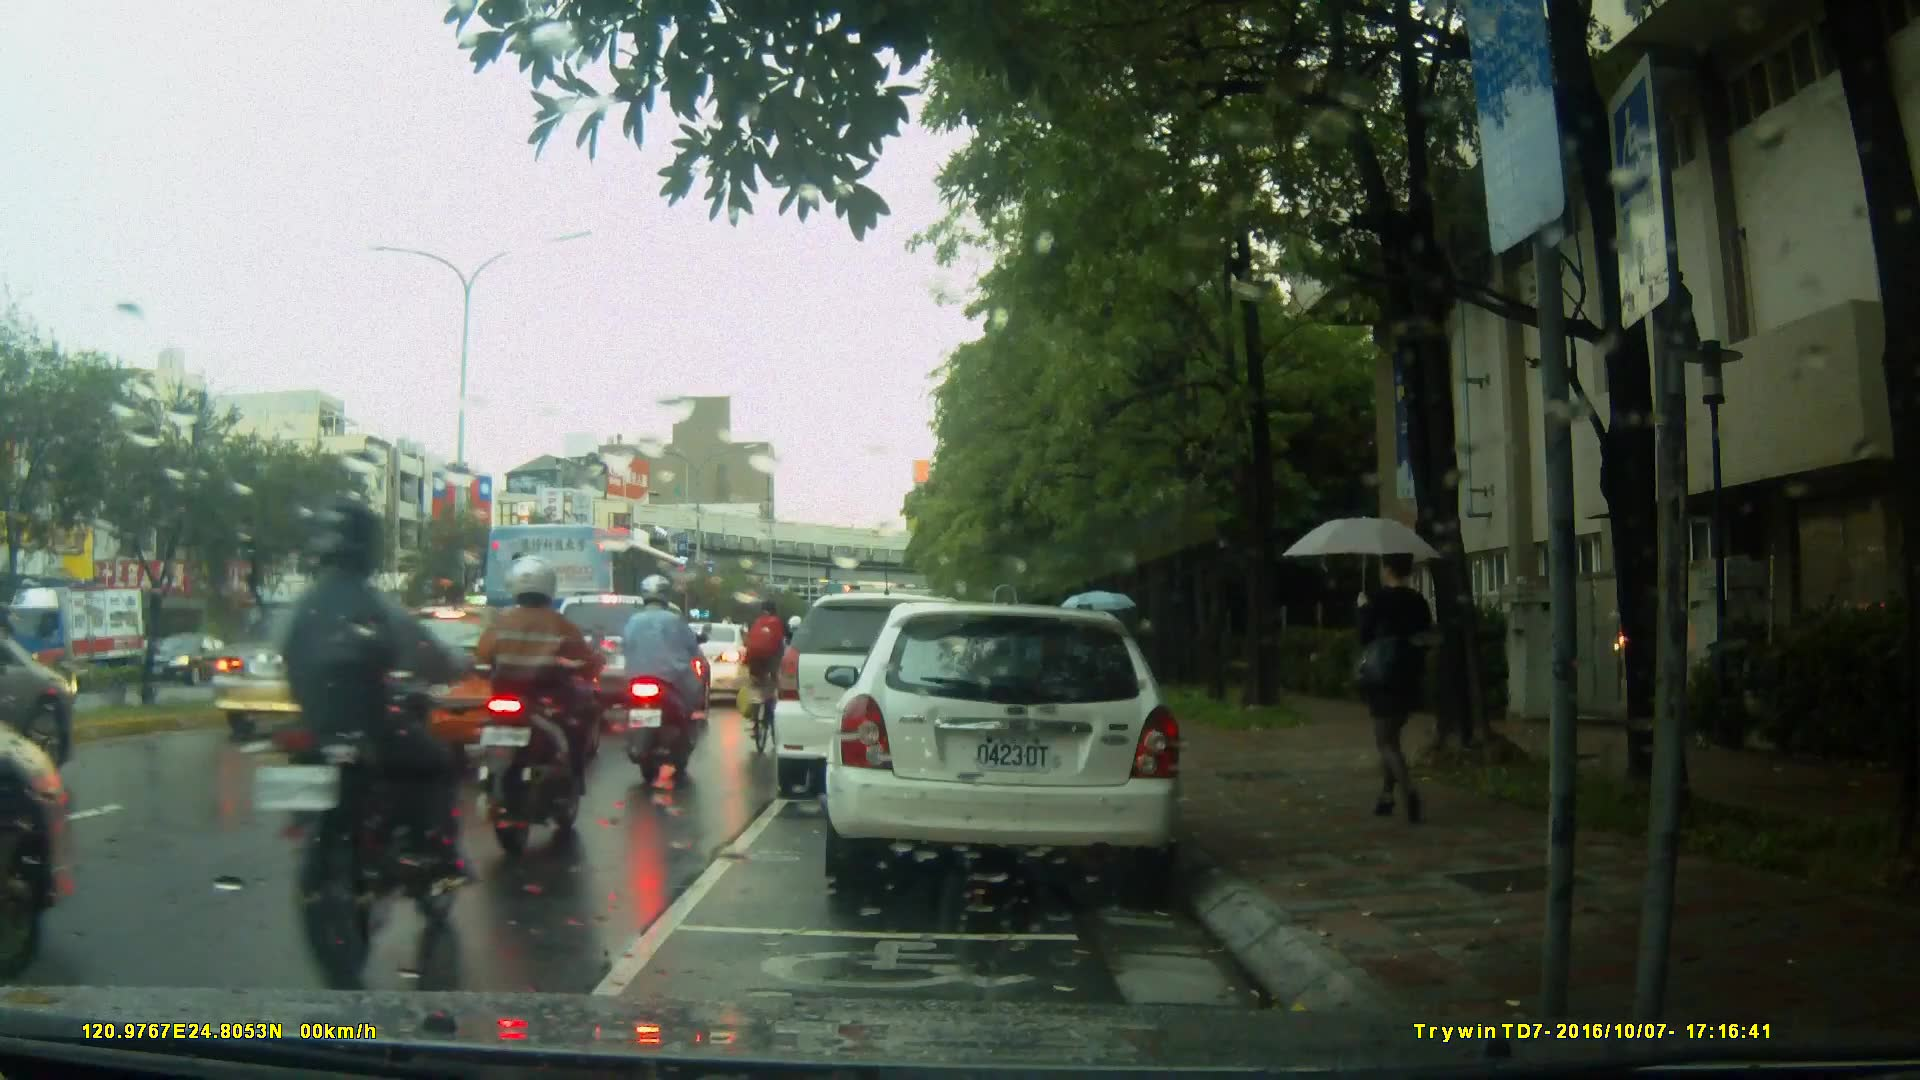pedestrian: (1319, 541, 1445, 825)
rider: (269, 493, 461, 964), (463, 553, 610, 839), (623, 575, 712, 783), (746, 598, 803, 752)
vehicle: (835, 594, 1194, 898), (776, 590, 1026, 784), (345, 603, 606, 777), (485, 521, 706, 669), (208, 607, 436, 740), (1, 586, 157, 697)
